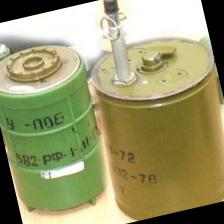OZM-72: (78, 0, 224, 224), (0, 24, 115, 224)
